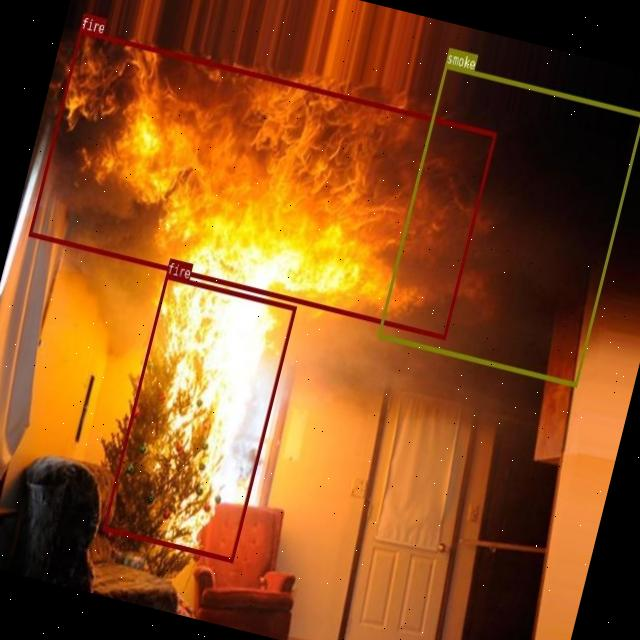fire: (28, 28, 497, 339), (101, 272, 296, 562)
smoke: (376, 62, 640, 385)
